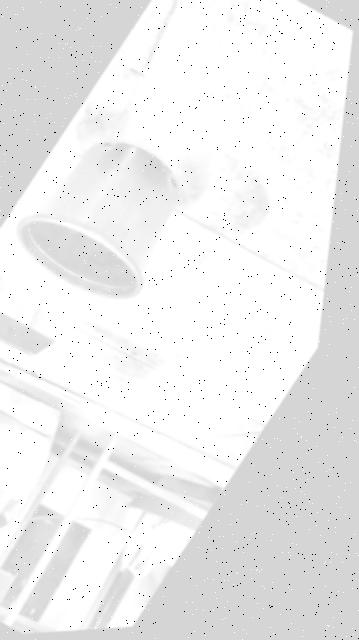pot: (15, 140, 178, 298)
